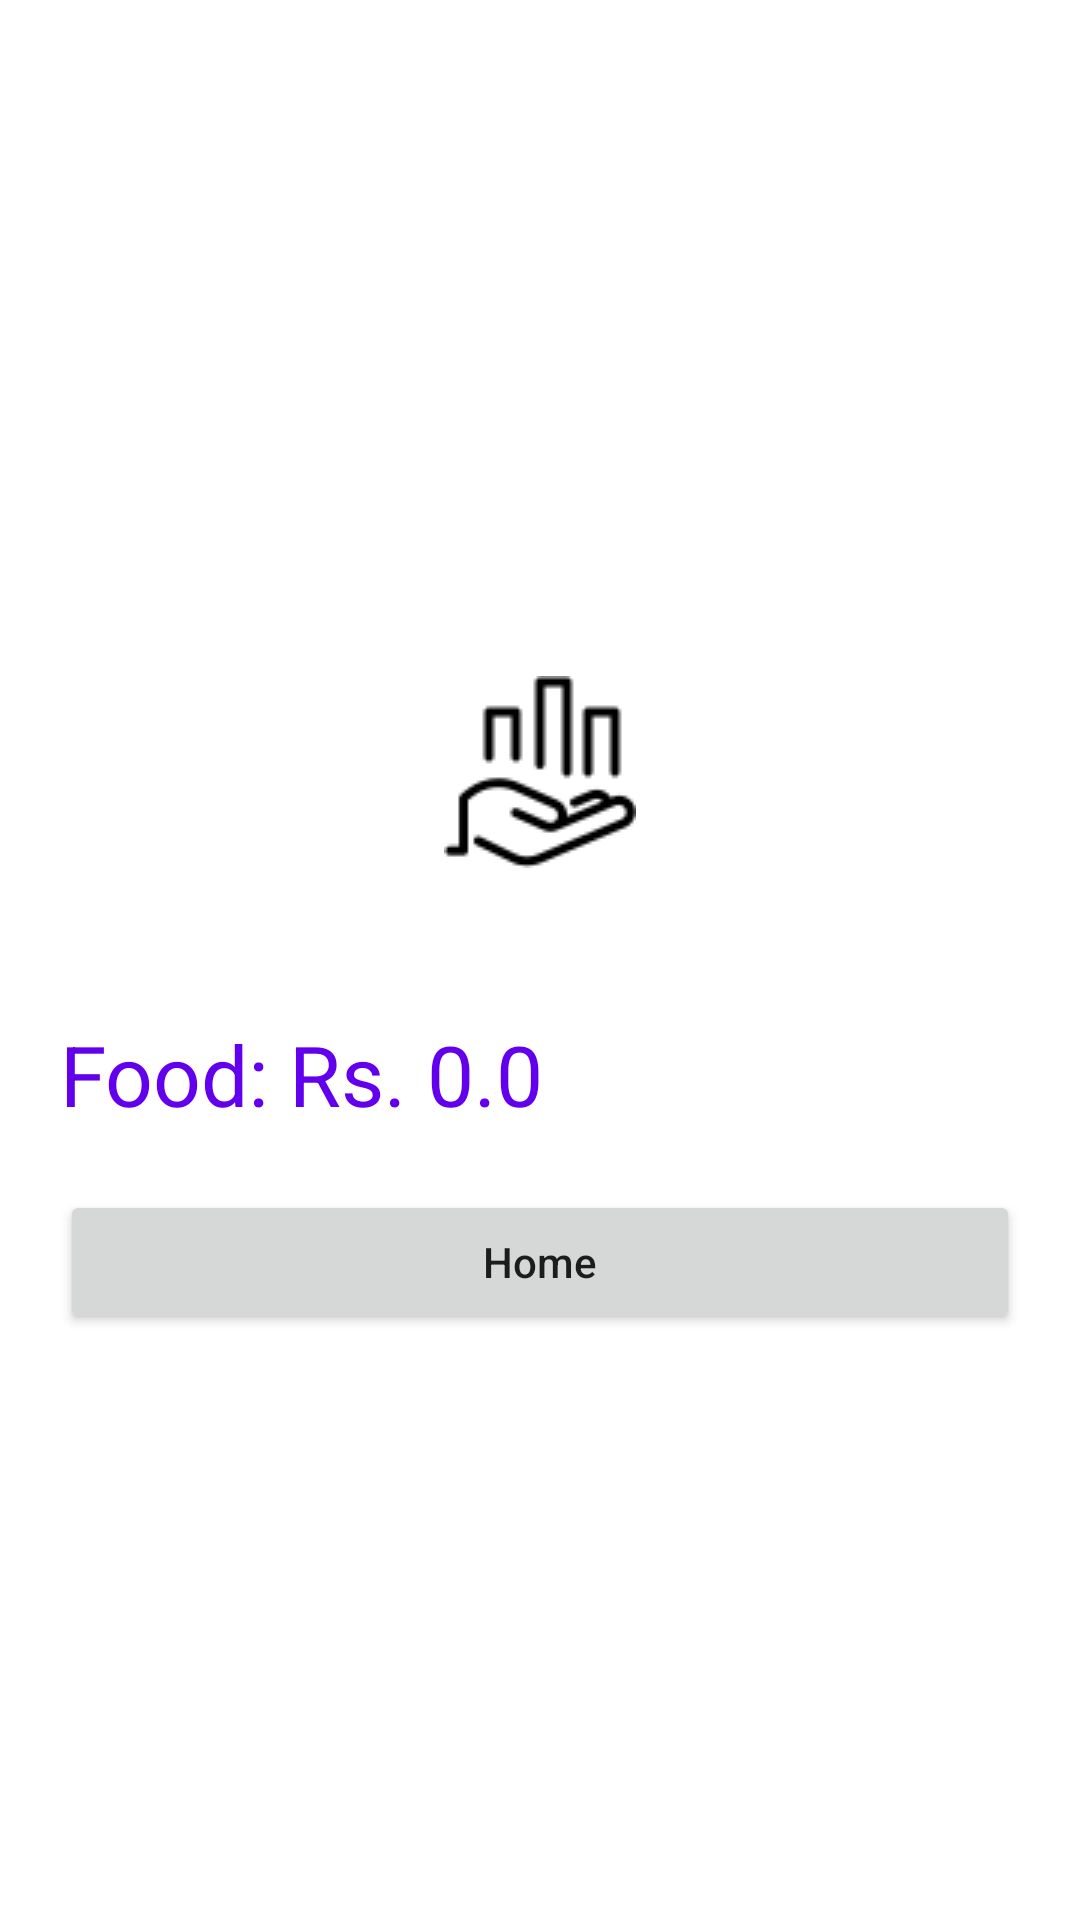

Named icons in this screenshot (1080×1920) and their bounding boxes, rect(x1, y1, x2, y2):
analytics: rect(444, 676, 636, 868)
